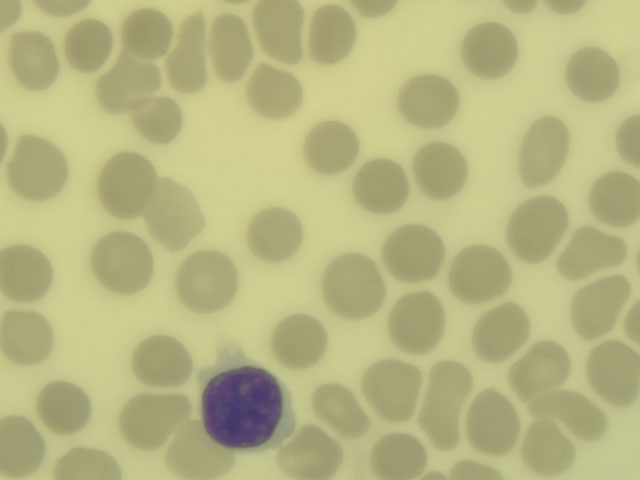RBC: (5, 135, 71, 199), (92, 229, 153, 297), (1, 240, 55, 305), (254, 1, 307, 66), (422, 364, 467, 440), (98, 150, 151, 214), (563, 41, 619, 100), (34, 380, 92, 436), (181, 251, 235, 310), (246, 208, 305, 262), (325, 256, 378, 316), (398, 75, 459, 127), (509, 202, 565, 258), (8, 33, 59, 93), (450, 250, 511, 298), (157, 181, 200, 249), (394, 295, 446, 351), (1, 413, 45, 479), (384, 228, 443, 277), (592, 344, 637, 408), (530, 397, 610, 432), (207, 14, 251, 77), (358, 159, 408, 213), (313, 386, 367, 436), (118, 397, 182, 439), (472, 392, 516, 453), (133, 337, 190, 384), (306, 122, 356, 175), (586, 175, 640, 224), (366, 364, 416, 416), (3, 314, 52, 367), (467, 24, 516, 76), (522, 121, 565, 179), (419, 143, 465, 197), (251, 66, 300, 116), (272, 318, 325, 364), (176, 428, 224, 478), (526, 421, 573, 471), (472, 313, 530, 353), (562, 233, 623, 271), (316, 7, 352, 69), (571, 286, 619, 332), (284, 432, 338, 472), (57, 443, 118, 478), (515, 351, 570, 389), (176, 21, 205, 93), (122, 12, 171, 54), (101, 64, 163, 97), (70, 22, 108, 67), (135, 105, 185, 139), (377, 436, 420, 473), (618, 116, 640, 163), (455, 462, 498, 480), (38, 1, 92, 15), (362, 2, 395, 21), (551, 1, 584, 13), (508, 2, 535, 16), (3, 2, 19, 25), (631, 305, 640, 340)
WBC: (200, 375, 286, 445)
